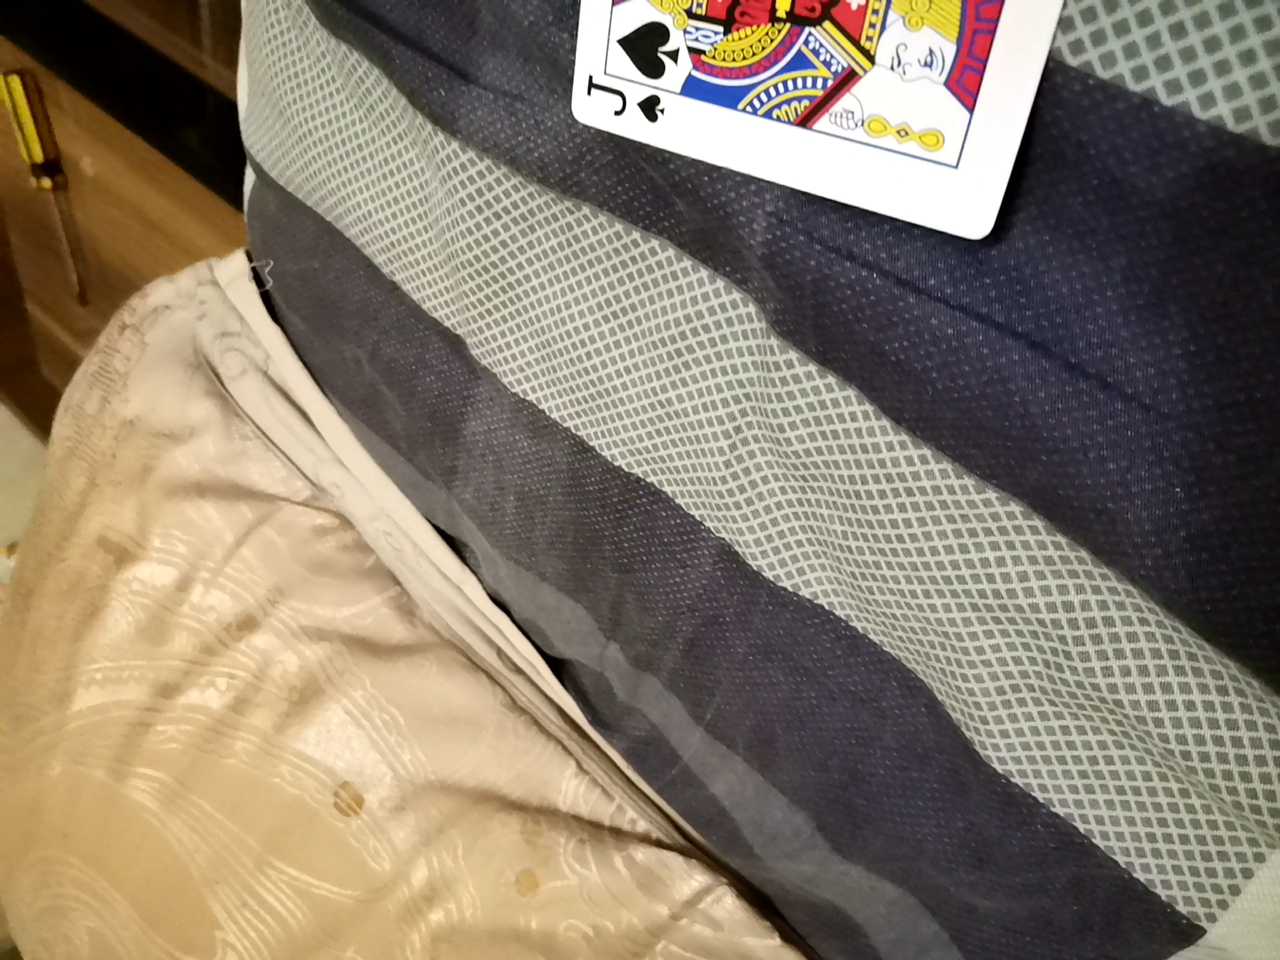ht j: (520, 2, 1060, 209)
